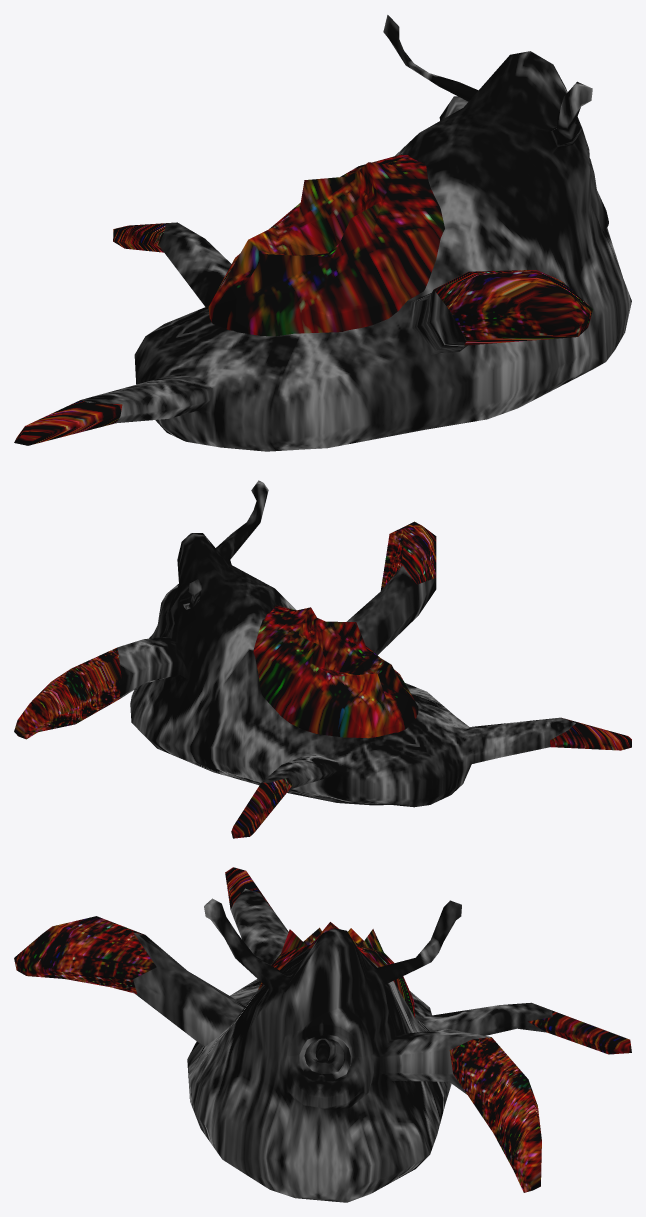
The model's file is slugga.glb.
The picture shows the model from 3 angles, top to bottom: view 1: azimuth 30°, elevation 25°; view 2: azimuth 150°, elevation 25°; view 3: azimuth 270°, elevation 25°; orthographic projection. The views are drawn at different scales.
Parts seen in each view (by area): view 1: Mball.002; view 2: Mball.002; view 3: Mball.002.
Part boxes in pixels (x1=…): Mball.002: x1=14, y1=15, x2=631, y2=451; Mball.002: x1=14, y1=480, x2=631, y2=838; Mball.002: x1=14, y1=867, x2=631, y2=1202.
Bounding box in the file's own units: 8.94 × 4.01 × 7.88.
Materials: 2 (2 with a texture image).
